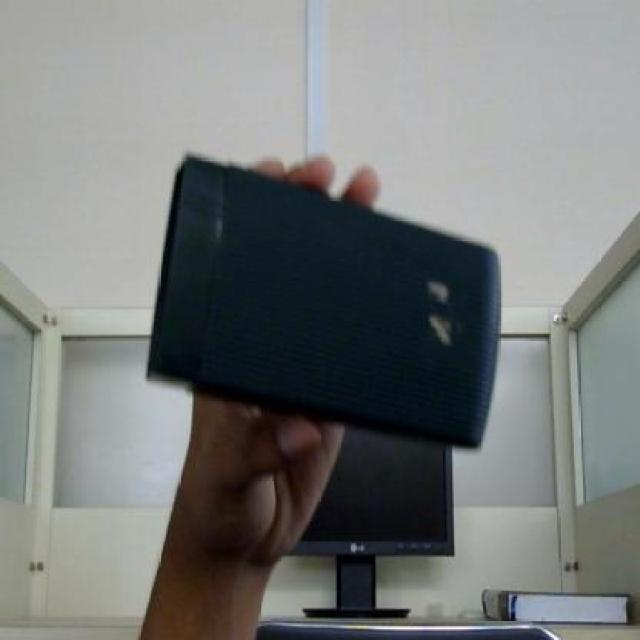Plastic: (135, 148, 512, 457)
